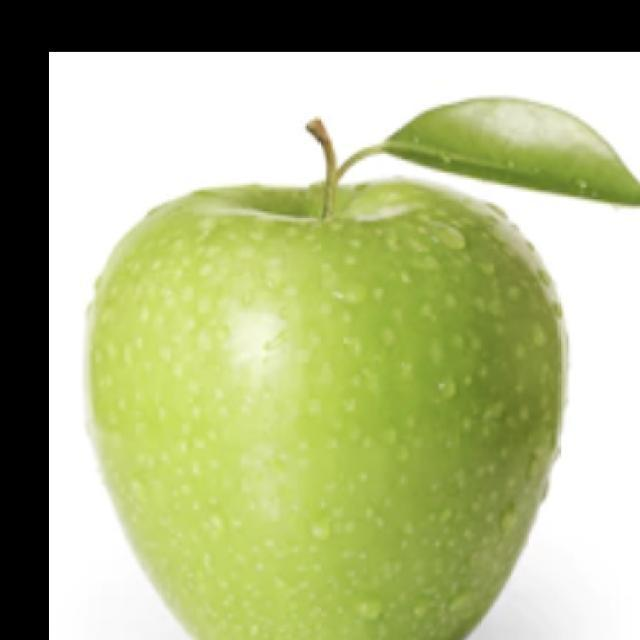Apple: (82, 95, 639, 639)
